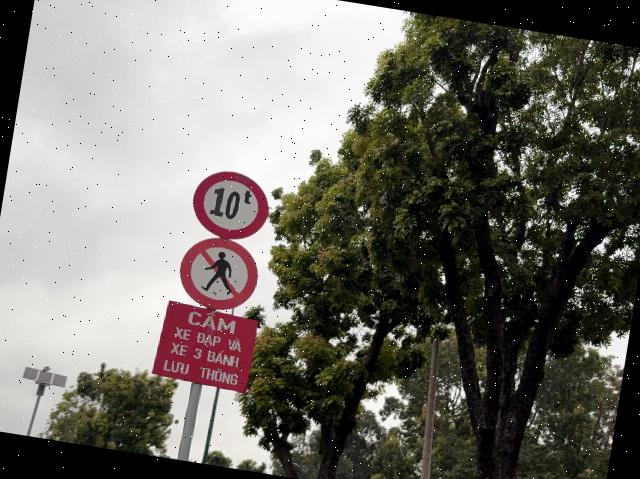cam-nguoi-di-bo: (174, 232, 263, 316)
han-che-trong-luong-xe: (188, 166, 274, 245)
